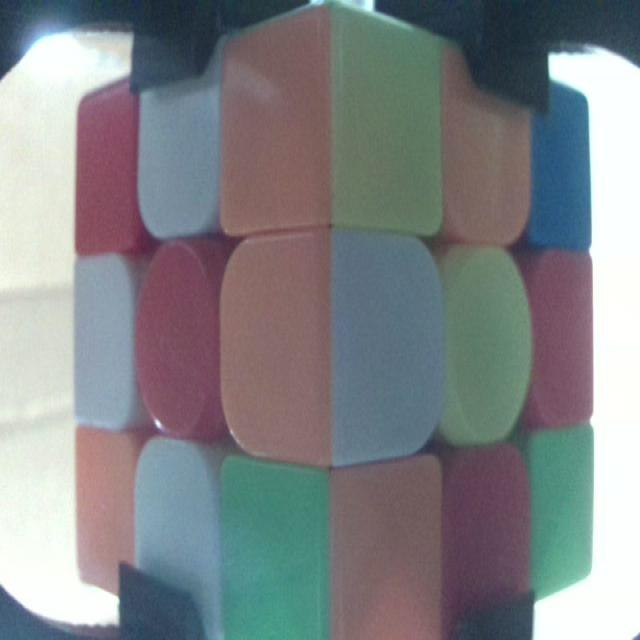b: (537, 96, 588, 245)
g: (228, 472, 319, 640), (537, 435, 587, 581)
o: (226, 259, 323, 453), (231, 45, 323, 223), (336, 478, 430, 640), (450, 62, 528, 230), (77, 437, 130, 579)
r: (144, 256, 214, 431), (450, 461, 523, 620), (534, 264, 591, 412), (76, 103, 131, 241)
w: (336, 238, 432, 446), (140, 447, 216, 628), (142, 68, 217, 223), (76, 259, 129, 421)
y: (334, 18, 432, 226), (452, 261, 523, 431)
